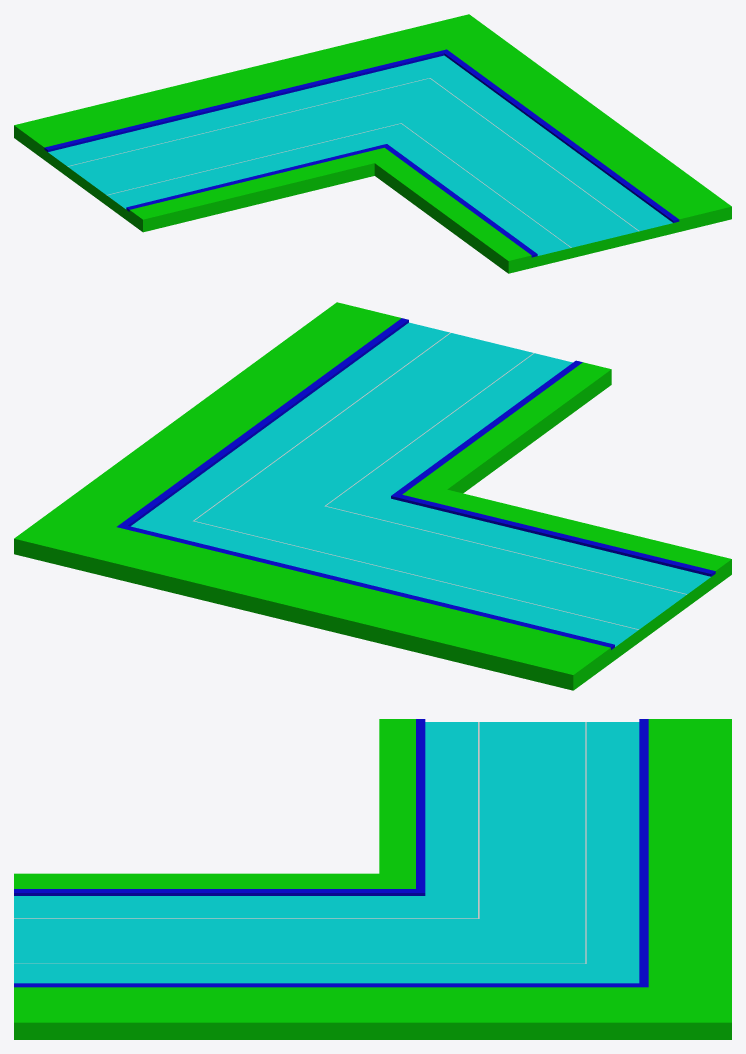
File: Turn_left_road.fbx
3 renders of one model, top to bottom at view 1: azimuth 30°, elevation 25°; view 2: azimuth 150°, elevation 25°; view 3: azimuth 270°, elevation 25°, orthographic. The views are drawn at different scales.
Parts seen in each view (by area): view 1: Turn_left_road; view 2: Turn_left_road; view 3: Turn_left_road.
Boxes of the visible parts, x1,y1,x2,y2 form: Turn_left_road: (14, 14, 731, 273); Turn_left_road: (14, 302, 731, 690); Turn_left_road: (14, 719, 731, 1039).
Size of the model in its own units: 1130 by 30.14 by 1130.
